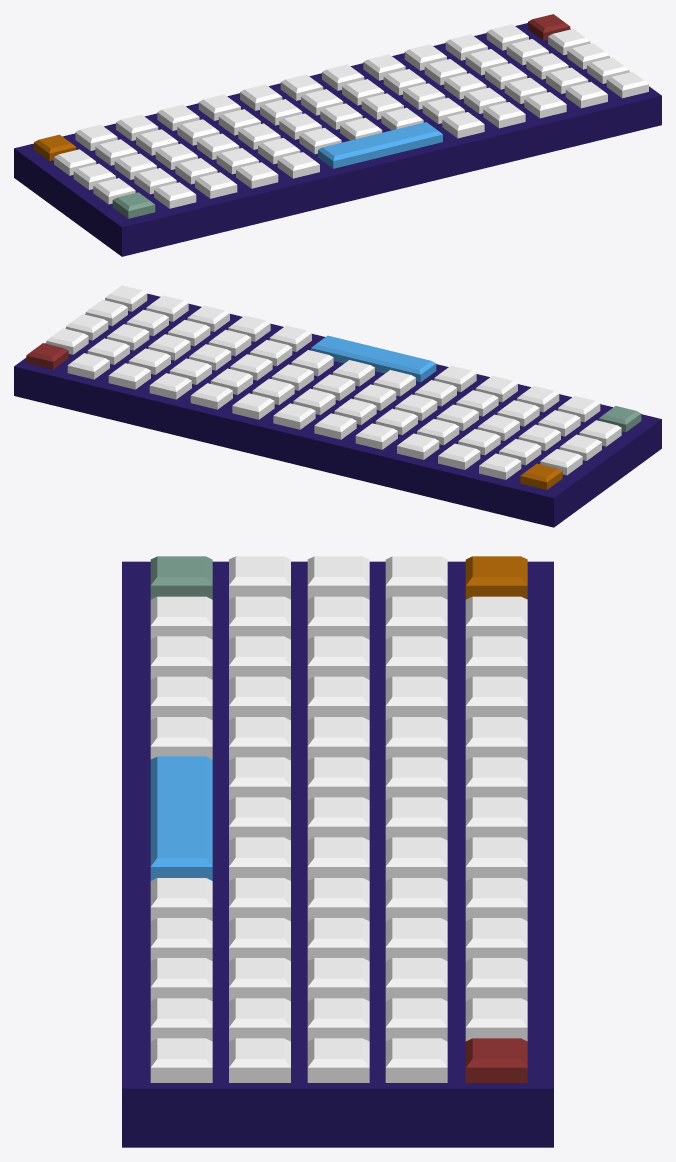
File: Keyboard_4.fbx
The picture shows the model from 3 angles, top to bottom: view 1: azimuth 30°, elevation 25°; view 2: azimuth 150°, elevation 25°; view 3: azimuth 270°, elevation 25°; orthographic projection. The views are drawn at different scales.
Visible parts, largest first — view 1: Keyboard_4; view 2: Keyboard_4; view 3: Keyboard_4.
Part boxes in pixels (x1,y1,x2,y2): Keyboard_4: [14, 14, 661, 256]; Keyboard_4: [14, 285, 661, 527]; Keyboard_4: [122, 556, 553, 1147].
Bounding box in the file's own units: 0.2621 × 0.0186 × 0.0908.
